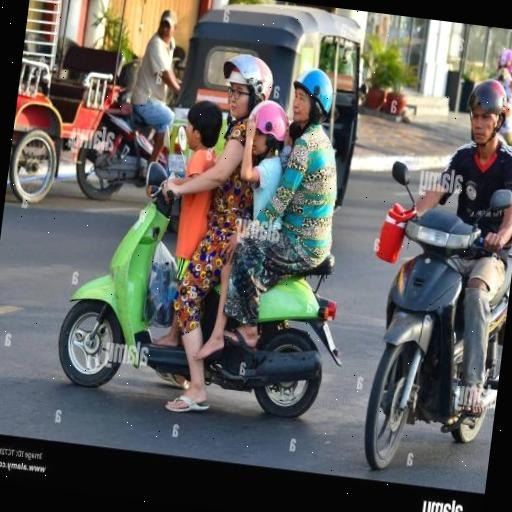helmet: (441, 66, 512, 195), (212, 52, 272, 164)
triple riding: (52, 24, 384, 432)
